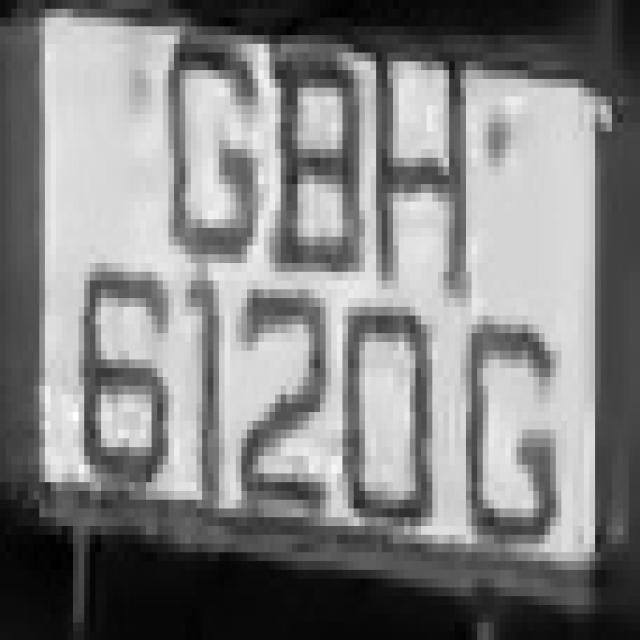0: (331, 280, 438, 570)
1: (180, 237, 230, 535)
2: (236, 245, 331, 570)
6: (78, 228, 168, 517)
B: (270, 9, 370, 307)
G: (449, 263, 562, 552), (163, 0, 264, 281)
H: (371, 44, 477, 316)
